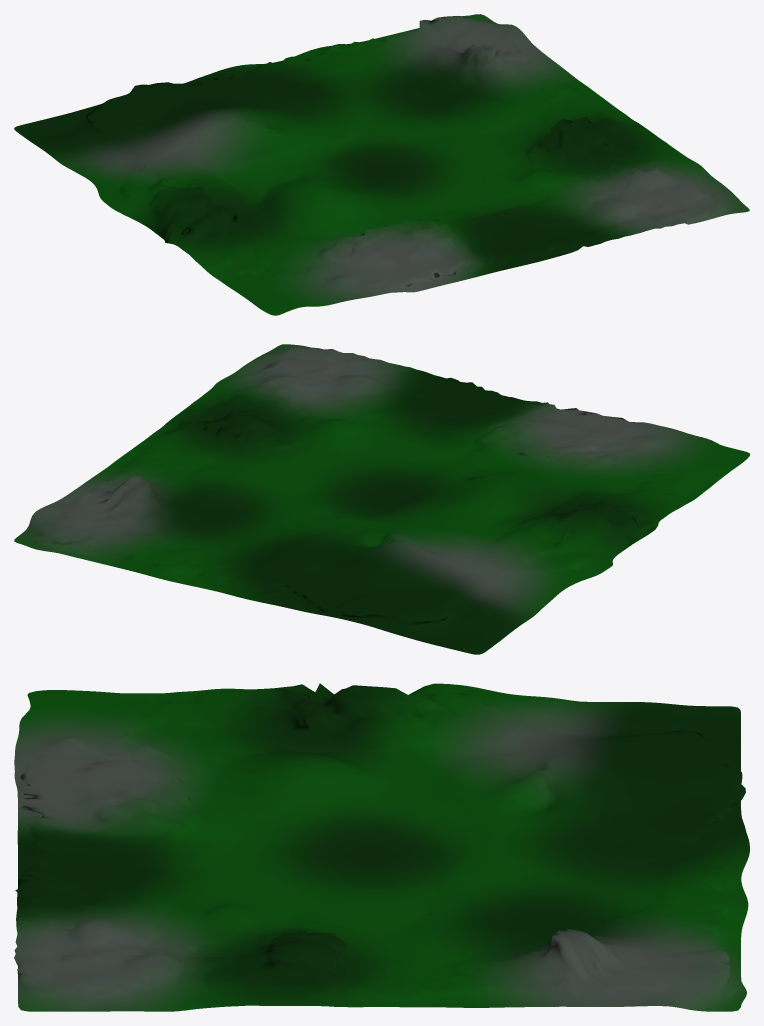
The model's file is rookie_hood_map.glb.
The picture shows the model from 3 angles, top to bottom: view 1: azimuth 30°, elevation 25°; view 2: azimuth 150°, elevation 25°; view 3: azimuth 270°, elevation 25°; orthographic projection. The views are drawn at different scales.
Parts seen in each view (by area): view 1: Grid; view 2: Grid; view 3: Grid.
Boxes of the visible parts, x1=… form: Grid: x1=14, y1=14, x2=749, y2=315; Grid: x1=14, y1=344, x2=749, y2=654; Grid: x1=14, y1=683, x2=749, y2=1011.
Size of the model in its own units: 62.75 by 3.54 by 61.07.
1 material, 1 textured.
